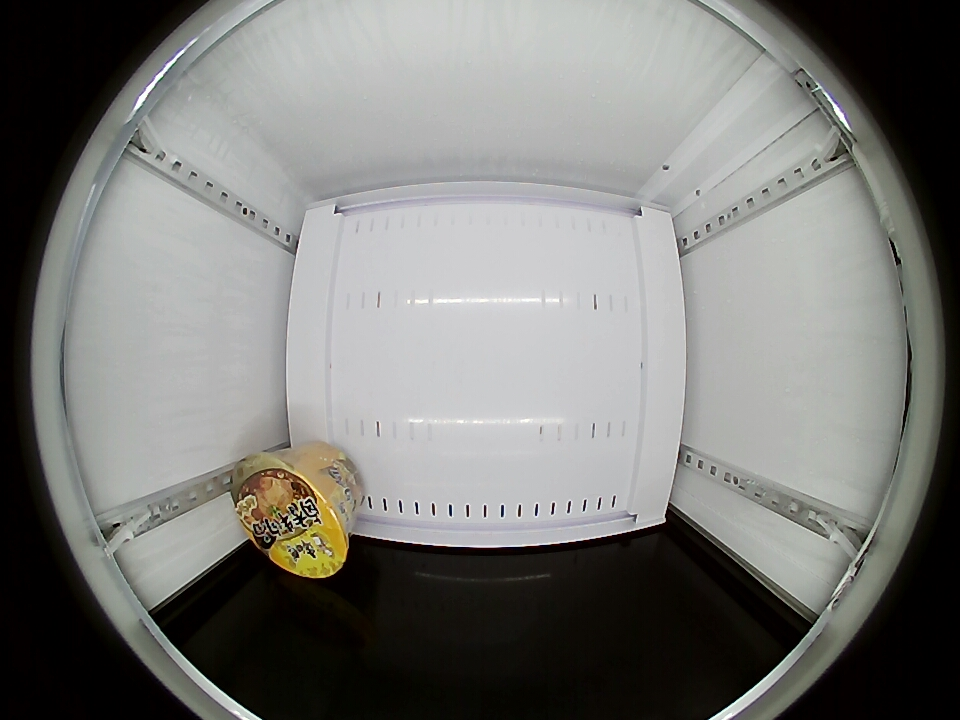luxiangniurou: (233, 455, 350, 579)
